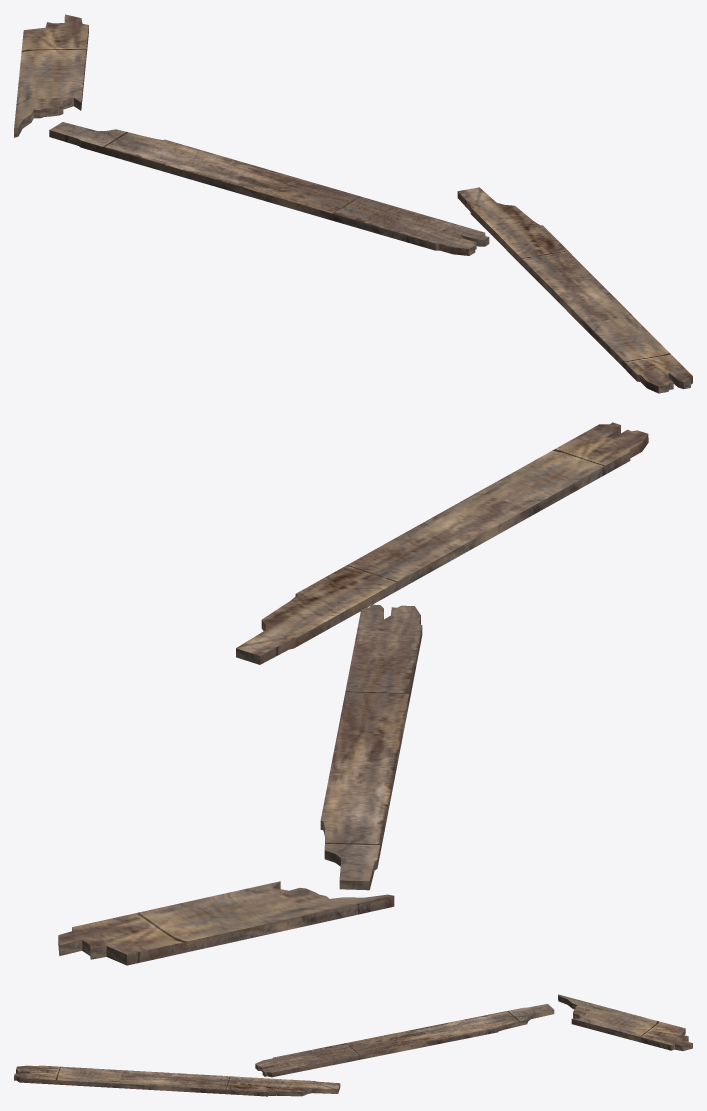
Rendered from PlanksScattered02.fbx.
3 renders of one model, top to bottom at view 1: azimuth 30°, elevation 25°; view 2: azimuth 150°, elevation 25°; view 3: azimuth 270°, elevation 25°, orthographic. The views are drawn at different scales.
Parts seen in each view (by area): view 1: SM_COM_PlanksScattered_02.mo; view 2: SM_COM_PlanksScattered_02.mo; view 3: SM_COM_PlanksScattered_02.mo.
Part boxes in pixels (x1=…): SM_COM_PlanksScattered_02.mo: x1=14, y1=14, x2=692, y2=393; SM_COM_PlanksScattered_02.mo: x1=58, y1=422, x2=648, y2=965; SM_COM_PlanksScattered_02.mo: x1=14, y1=994, x2=692, y2=1096.
Size of the model in its own units: 109 by 4.03 by 329.
